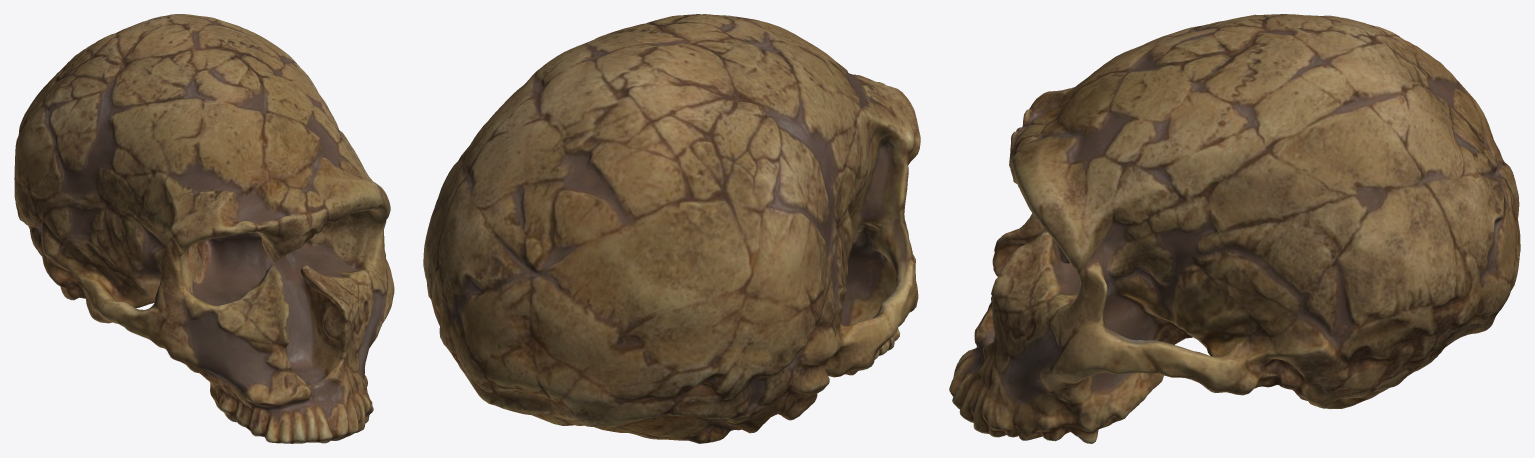
Rendered from RepertoLF1.glb.
3 renders of one model, left to right at view 1: azimuth 30°, elevation 25°; view 2: azimuth 150°, elevation 25°; view 3: azimuth 270°, elevation 25°, orthographic. The views are drawn at different scales.
Visible parts, largest first — view 1: Calco ULiège · La Ferrassie 1; view 2: Calco ULiège · La Ferrassie 1; view 3: Calco ULiège · La Ferrassie 1.
Boxes of the visible parts, box(x1,y1,x2,y2) form: Calco ULiège · La Ferrassie 1: box(14, 14, 394, 443); Calco ULiège · La Ferrassie 1: box(423, 14, 920, 443); Calco ULiège · La Ferrassie 1: box(949, 14, 1520, 443).
Bounding box in the file's own units: 0.1583 × 0.1717 × 0.2324.
1 material, 1 textured.
